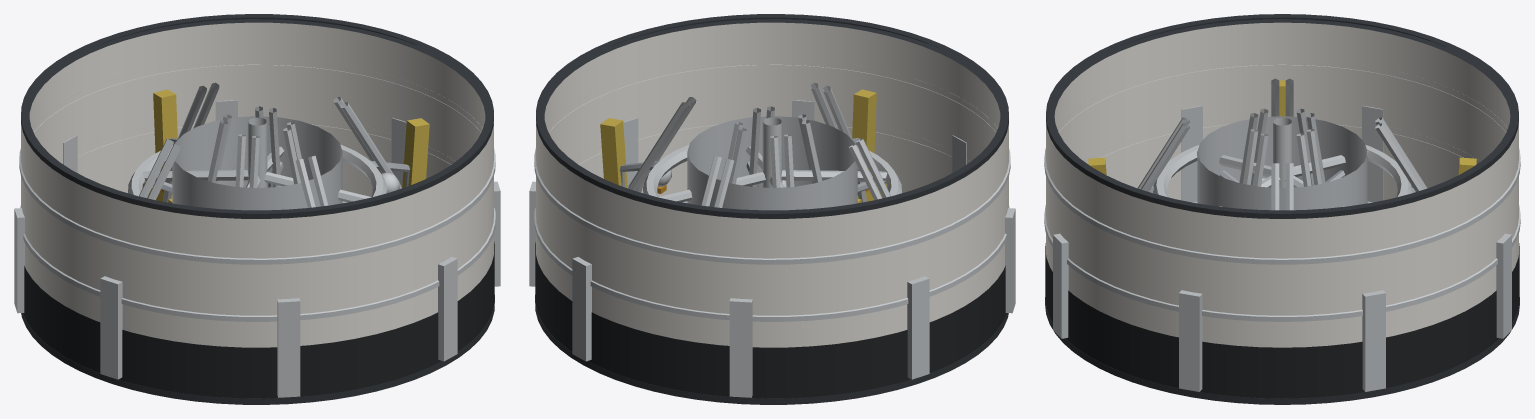
Rendered from thrust_sib_l.glb.
3 views of the same model, side by side, from view 1: azimuth 30°, elevation 25°; view 2: azimuth 150°, elevation 25°; view 3: azimuth 270°, elevation 25° (orthographic).
Parts seen in each view (by area): view 1: skin, structure, slot_feed, slot_feed__prevalves; view 2: skin, structure, slot_feed, slot_feed__prevalves; view 3: skin, structure, slot_feed, slot_feed__prevalves.
Boxes of the visible parts, bbox=[...] form: skin: bbox=[14, 14, 500, 404]; structure: bbox=[142, 89, 429, 210]; slot_feed: bbox=[139, 82, 401, 207]; slot_feed__prevalves: bbox=[128, 117, 409, 202]; skin: bbox=[529, 14, 1015, 404]; structure: bbox=[600, 89, 887, 210]; slot_feed: bbox=[628, 82, 890, 207]; slot_feed__prevalves: bbox=[620, 117, 901, 202]; skin: bbox=[1044, 14, 1520, 404]; structure: bbox=[1088, 80, 1476, 210]; slot_feed: bbox=[1137, 78, 1427, 210]; slot_feed__prevalves: bbox=[1149, 117, 1415, 206].
Bounding box in the file's own units: 3.4 × 1.5 × 3.4.
